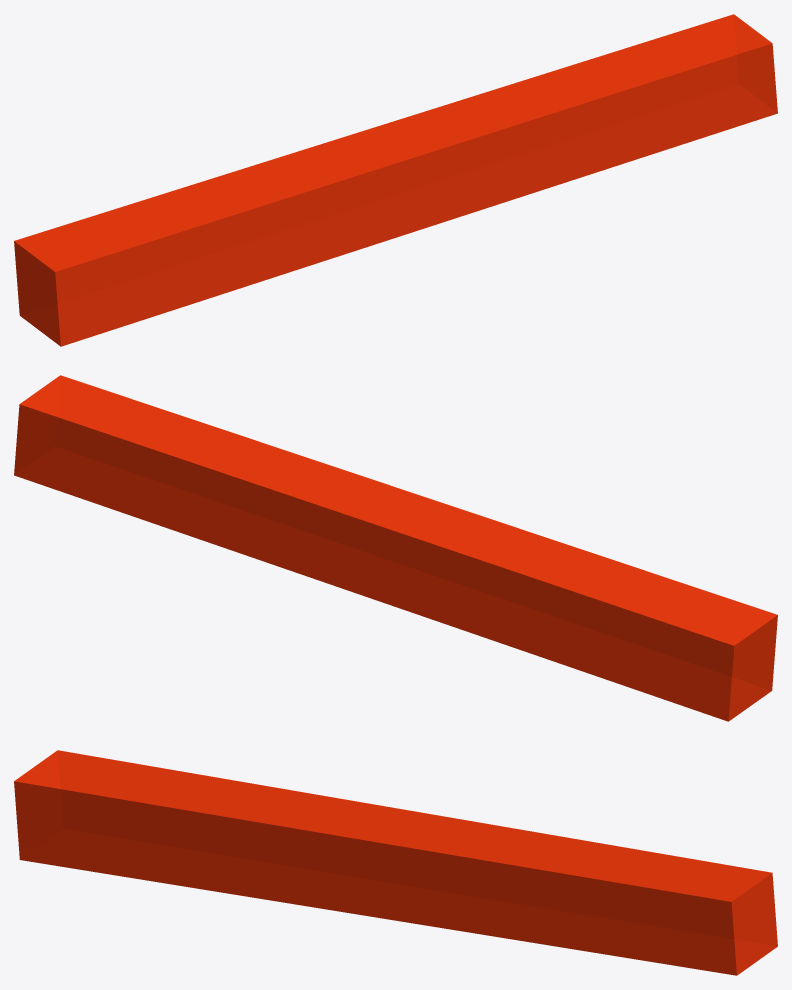
File: Event_421115418_EErechit_48.fbx
3 renders of one model, top to bottom at view 1: azimuth 30°, elevation 25°; view 2: azimuth 150°, elevation 25°; view 3: azimuth 330°, elevation 25°, orthographic.
Visible parts, largest first — view 1: Model; view 2: Model; view 3: Model.
Part boxes in pixels (bbox=[...]): Model: bbox=[14, 14, 777, 346]; Model: bbox=[14, 375, 777, 721]; Model: bbox=[14, 750, 777, 975].
Size of the model in its own units: 0.7614 by 0.1366 by 0.0868.
